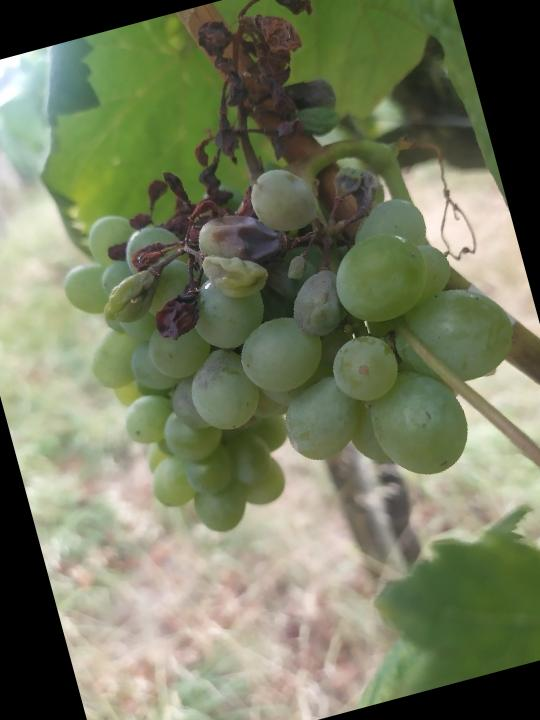grape: (0, 0, 540, 561)
